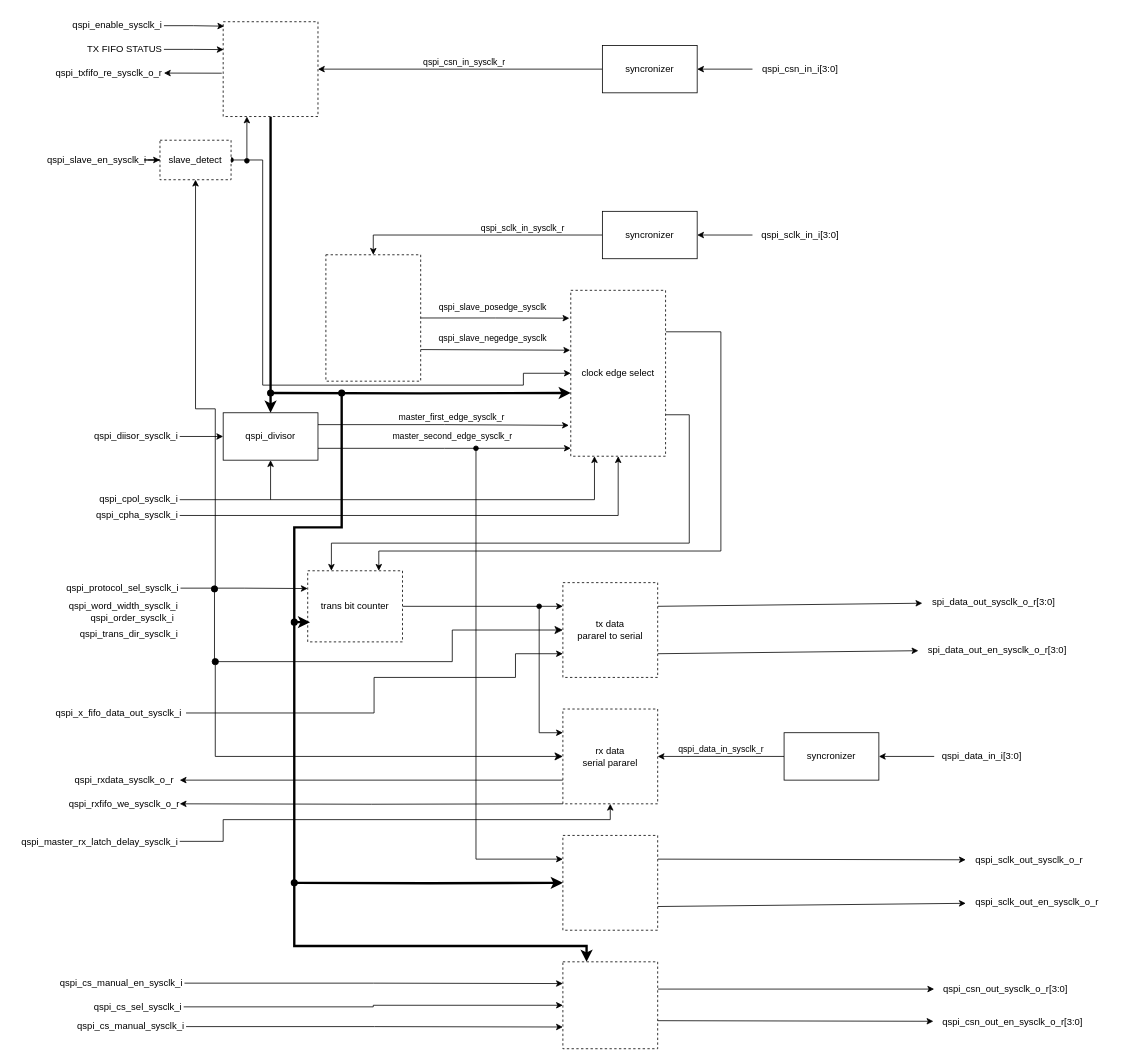
Some shapes in this 1121 by 1063 pixel diagram are drawn without their labels. Here are the shapes that lost their labels. From the top down, the box of each, then its label:
(222, 21, 318, 117): stale machine
(325, 254, 421, 381): sclk_in edge detect
(562, 835, 658, 930): clk_gen
(562, 961, 658, 1049): csn_gen
